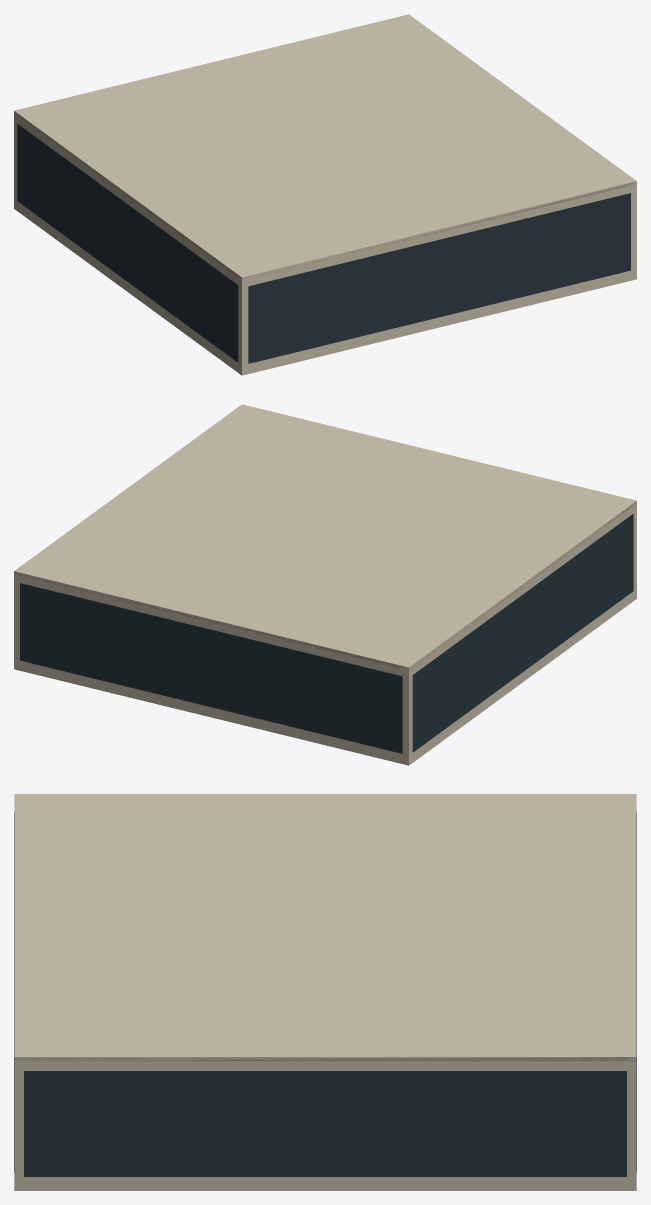
Rendered from tw_deco_32_base_lod1.glb.
3 renders of one model, top to bottom at view 1: azimuth 30°, elevation 25°; view 2: azimuth 150°, elevation 25°; view 3: azimuth 270°, elevation 25°, orthographic. The views are drawn at different scales.
Parts seen in each view (by area): view 1: tw_deco_32_base_lod1; view 2: tw_deco_32_base_lod1; view 3: tw_deco_32_base_lod1.
Boxes of the visible parts, x1=… form: tw_deco_32_base_lod1: x1=14, y1=14, x2=636, y2=375; tw_deco_32_base_lod1: x1=14, y1=404, x2=636, y2=765; tw_deco_32_base_lod1: x1=14, y1=794, x2=636, y2=1190.
Size of the model in its own units: 32.04 by 7.6 by 32.04.
Materials: 1 (1 with a texture image).
